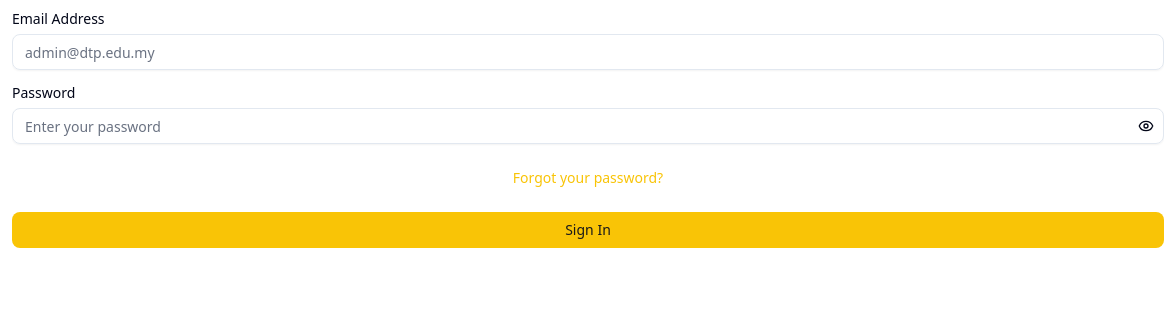
Test: LoginForm › displays error message when login fails
Type "test@example.com" into the field labelled "Email Address" at [588, 52], box [12,34,1164,70]
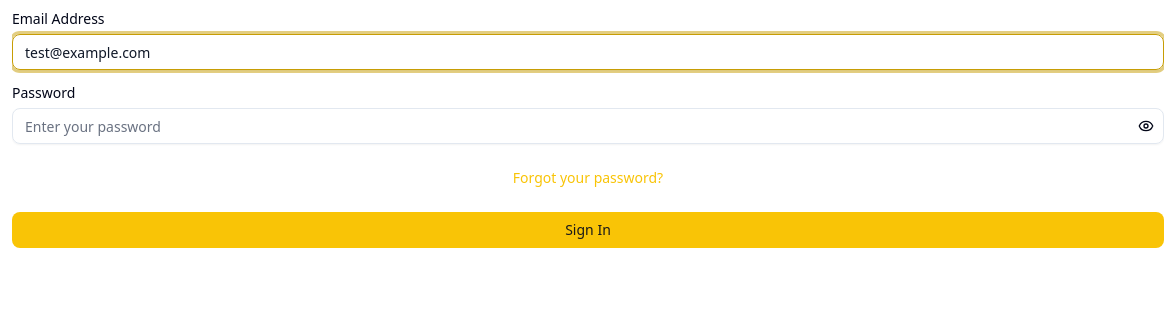
Type "password123" into the password field with placeholder "Enter your password" at [588, 126], box [12,108,1164,144]
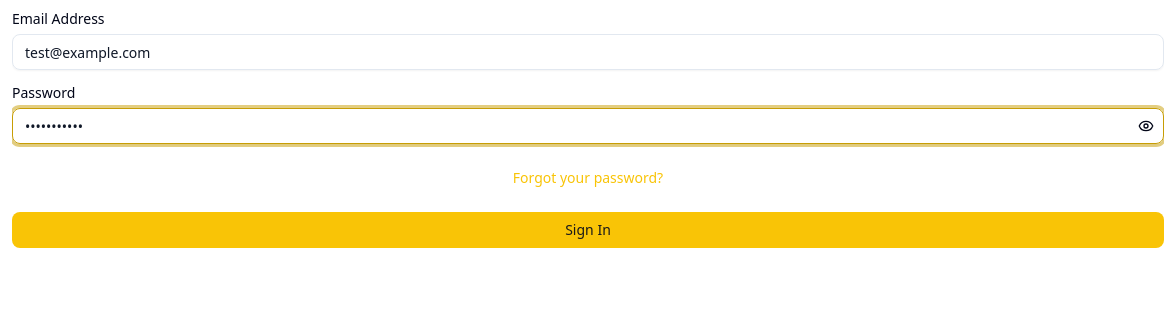
Click the button "Sign In" at [588, 230], box [12,212,1164,248]
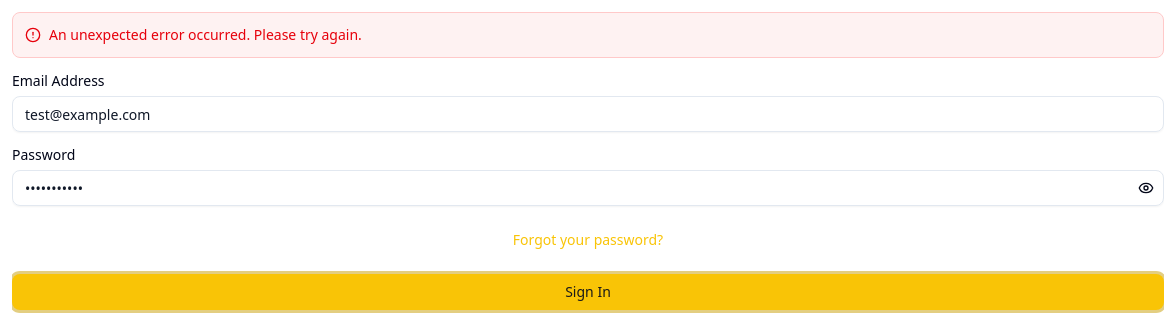
Now the text "An unexpected error occurred. Please try again." is shown, box [49,25,362,45]
